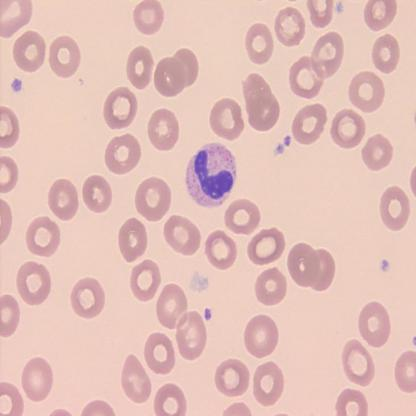Band Neutrophil: (185, 140, 240, 210)
